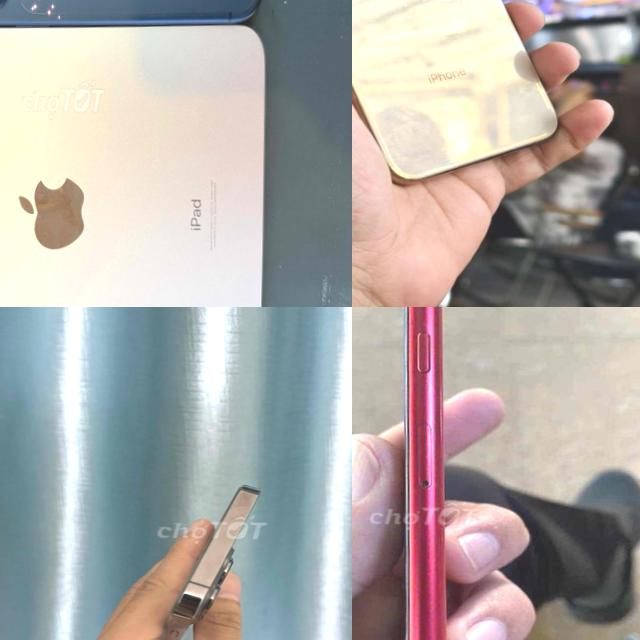scratch: (22, 0, 82, 44), (421, 627, 437, 640)
